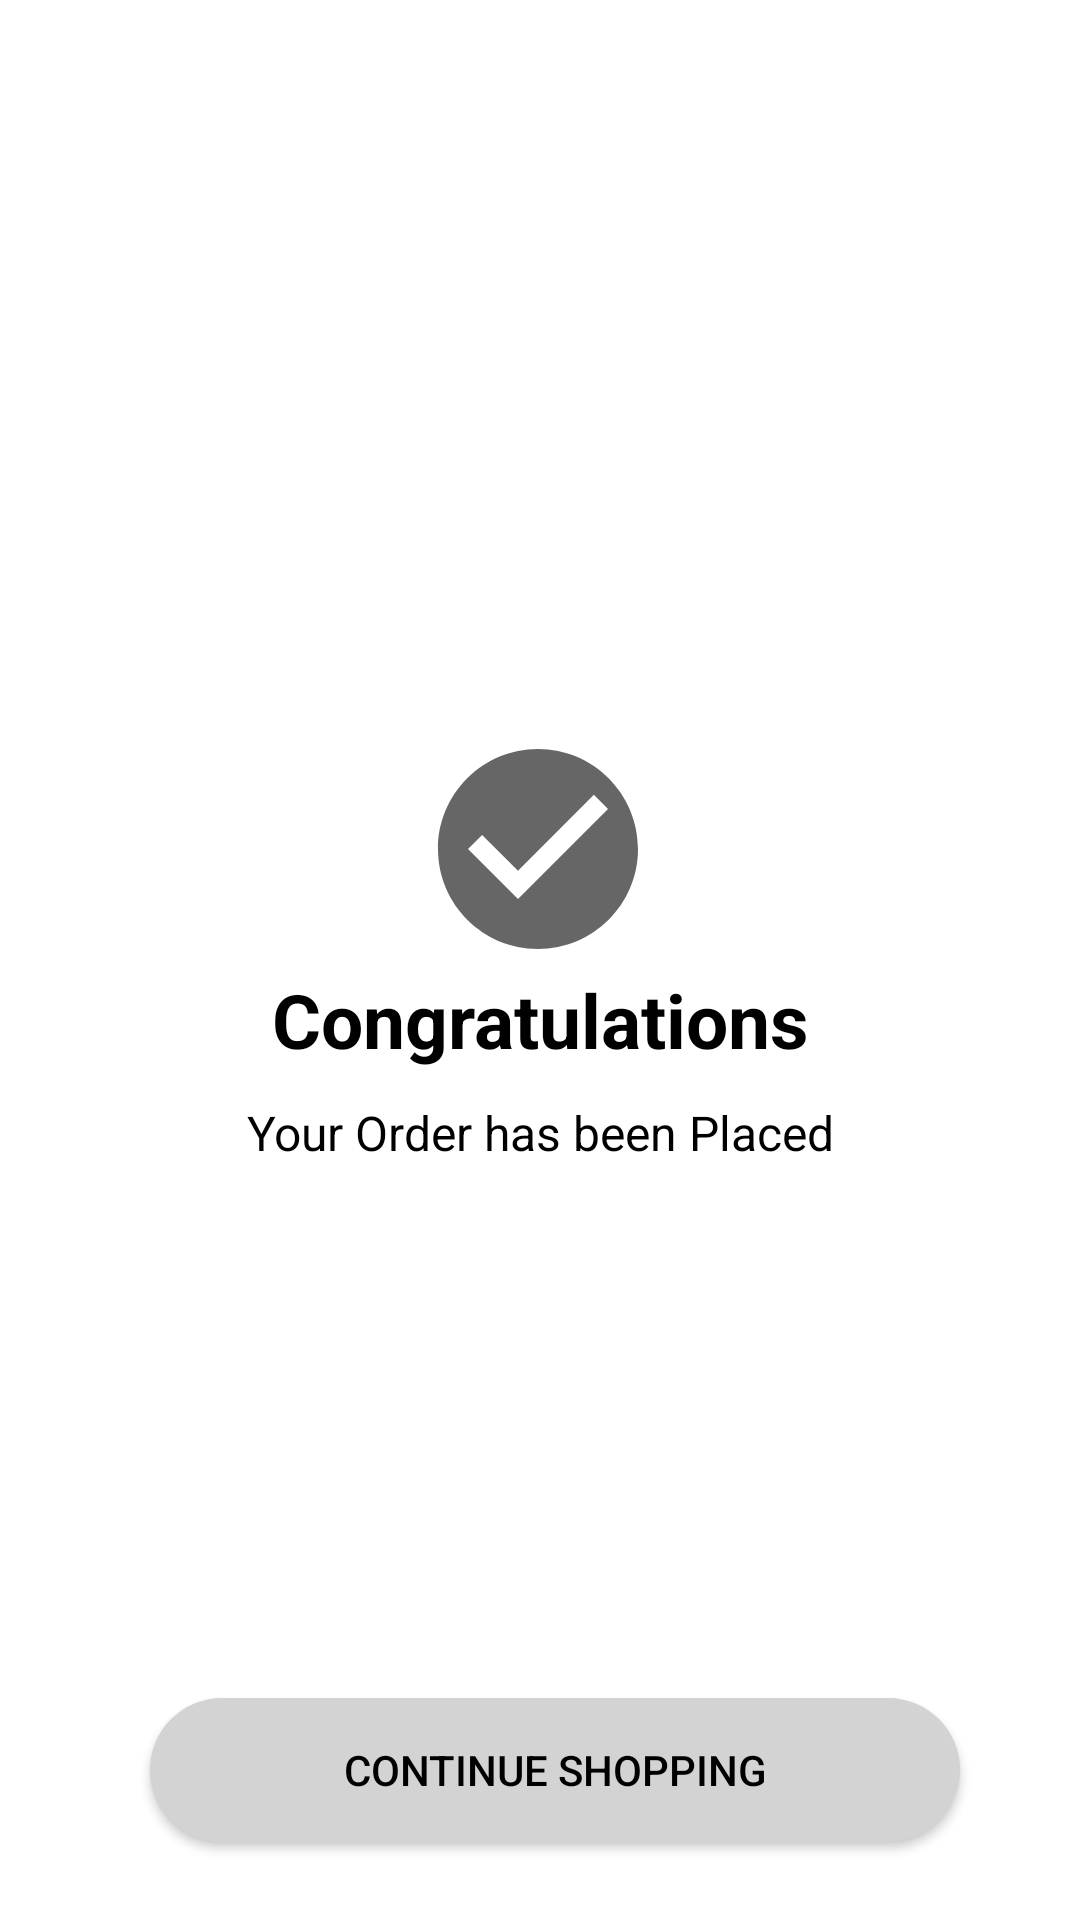

Locate icon controls on the screen. Image size 1080w x 1920h, boxes as bbox(x1, y1, x2, y2).
check: bbox(438, 749, 638, 949)
